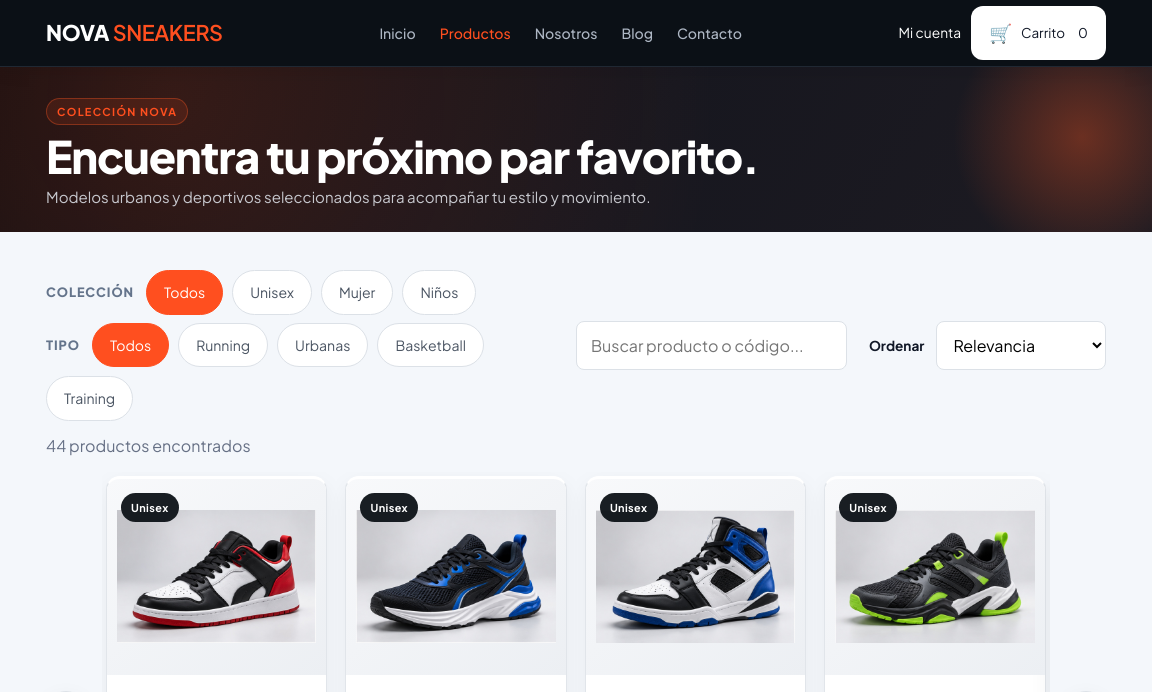
it: Flujos principales de Nova Sneakers › filtra el catálogo por texto
Type "Nova Runner Pro" into the search field named "Buscar productos" at (711, 346), box [576,321,847,370]
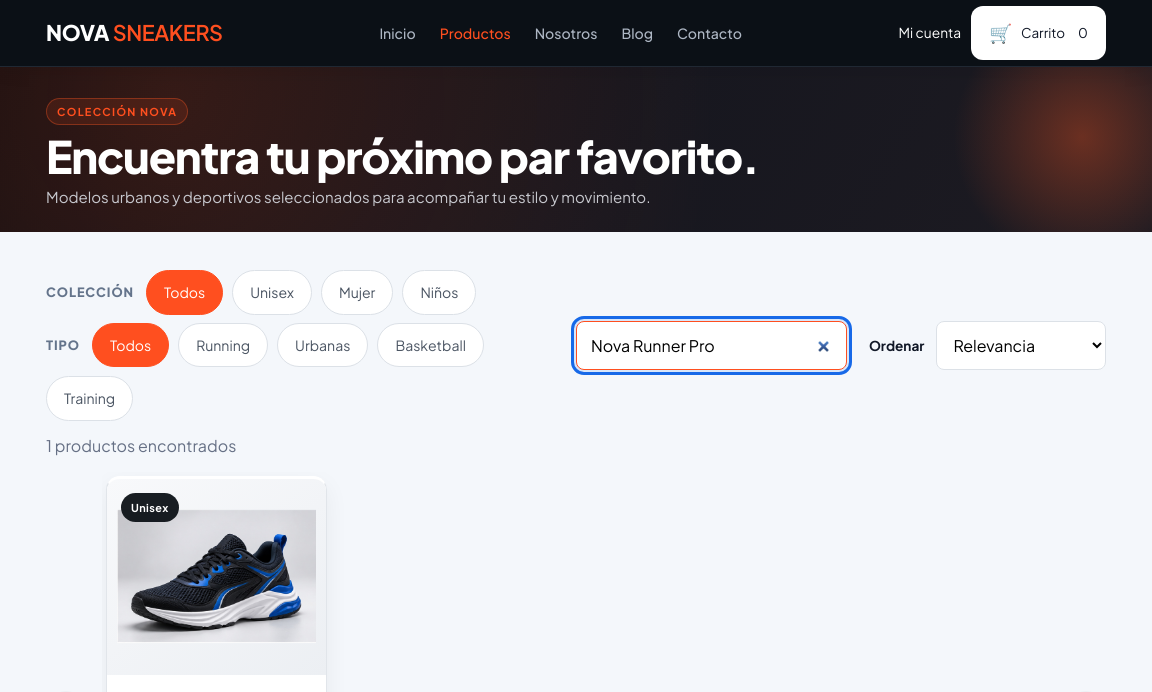
Result: the text "1 productos encontrados" is shown at [46,435,236,456]
